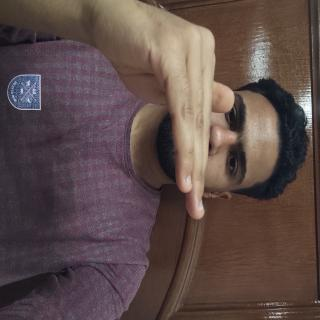KHAA: (2, 110, 165, 312)
